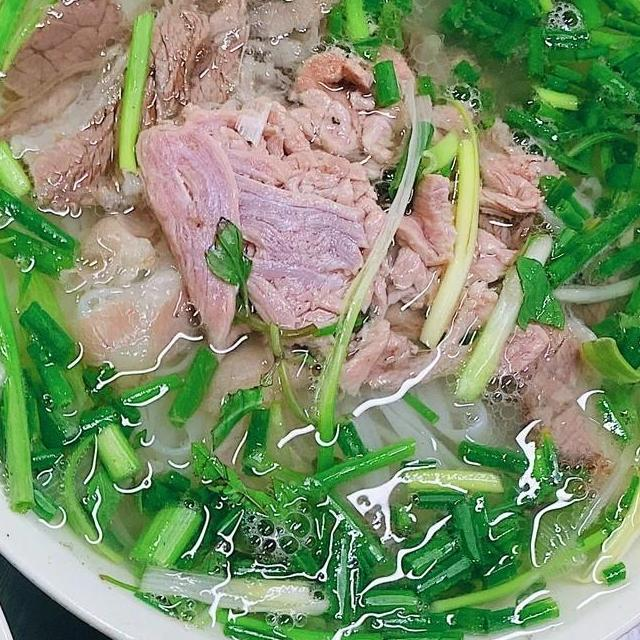banh pho: (325, 374, 505, 494), (109, 338, 236, 494)
pho bo: (0, 0, 640, 640)
thit bo: (133, 116, 379, 370), (473, 278, 640, 502), (0, 0, 149, 222), (50, 200, 204, 380), (270, 35, 426, 178), (140, 0, 255, 152), (451, 106, 579, 238), (372, 165, 462, 312)
